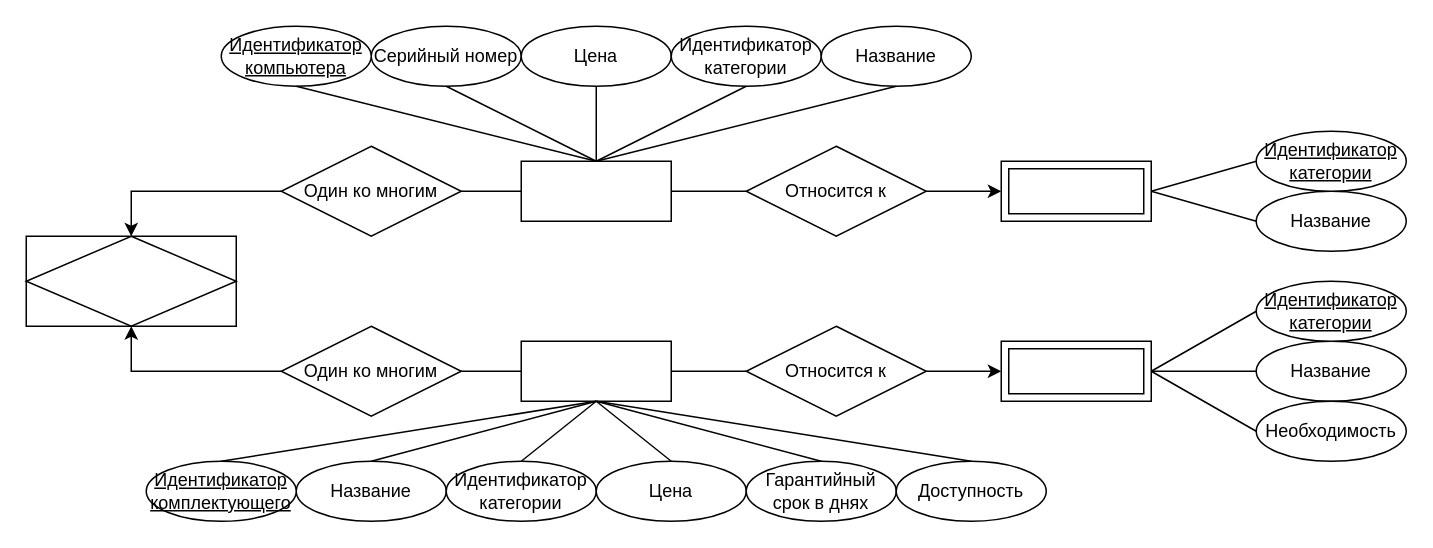
The diagram is 1433 pixels wide and 548 high, and some of its shapes have lost their labels. The shapes that lost their labels are listed below. From the top down, each one's centre as x and y in pixels, then its label:
the point at 595,190: Компьютеры
the point at 1075,190: Категории компьютеров
the point at 130,280: Компьютеры-комплектующие
the point at 595,370: Комплектующие
the point at 1075,370: Категории комплектующих
